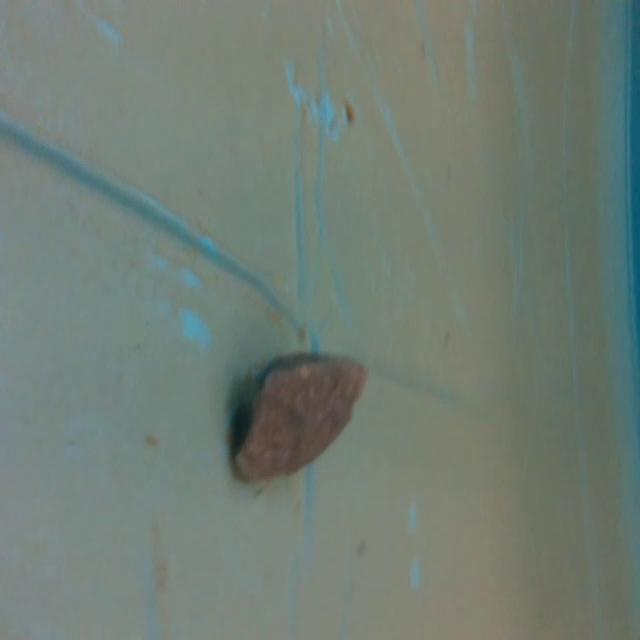rock: (227, 332, 373, 493)
